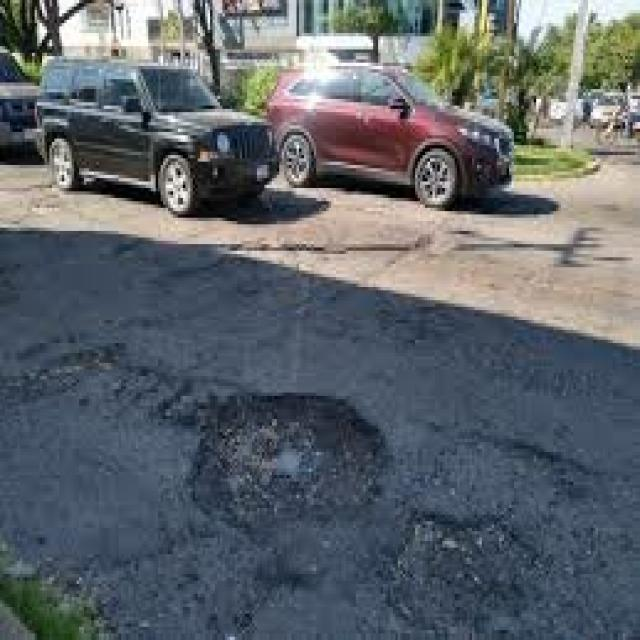Pothole: (29, 297, 600, 597)
